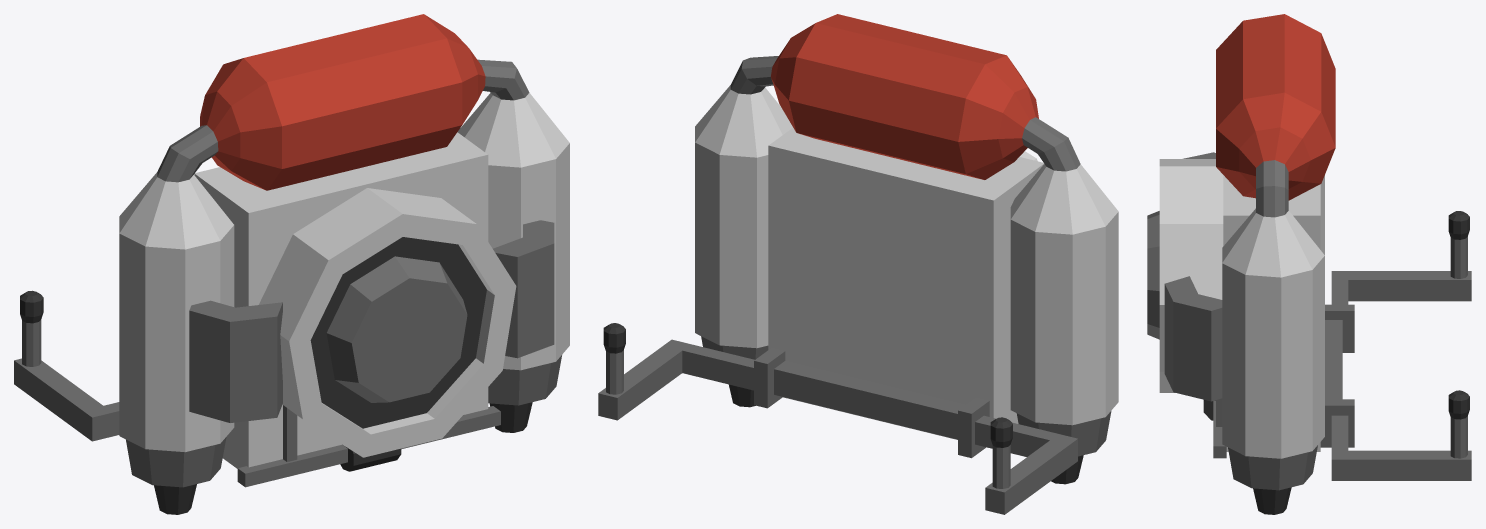
File: Jetpack.fbx
3 renders of one model, left to right at view 1: azimuth 30°, elevation 25°; view 2: azimuth 150°, elevation 25°; view 3: azimuth 270°, elevation 25°, orthographic. The views are drawn at different scales.
Parts seen in each view (by area): view 1: Jetpack; view 2: Jetpack; view 3: Jetpack.
Part boxes in pixels (bbox=[...]): Jetpack: bbox=[14, 14, 569, 514]; Jetpack: bbox=[598, 14, 1118, 514]; Jetpack: bbox=[1147, 14, 1471, 514].
Size of the model in its own units: 198 by 185 by 142.
